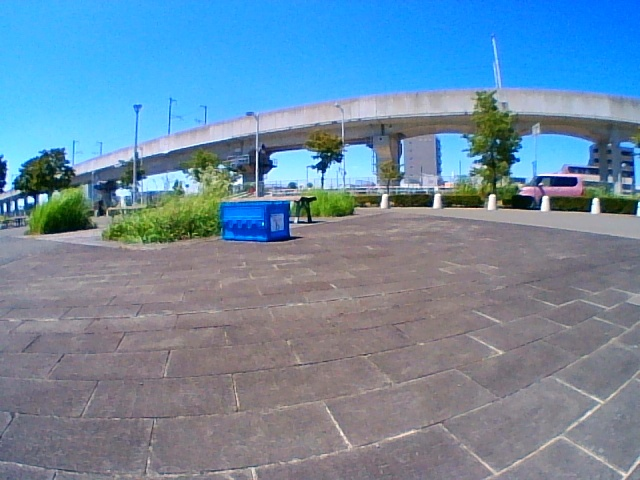blue_box: (222, 203, 289, 240)
tag: (270, 214, 282, 232)
